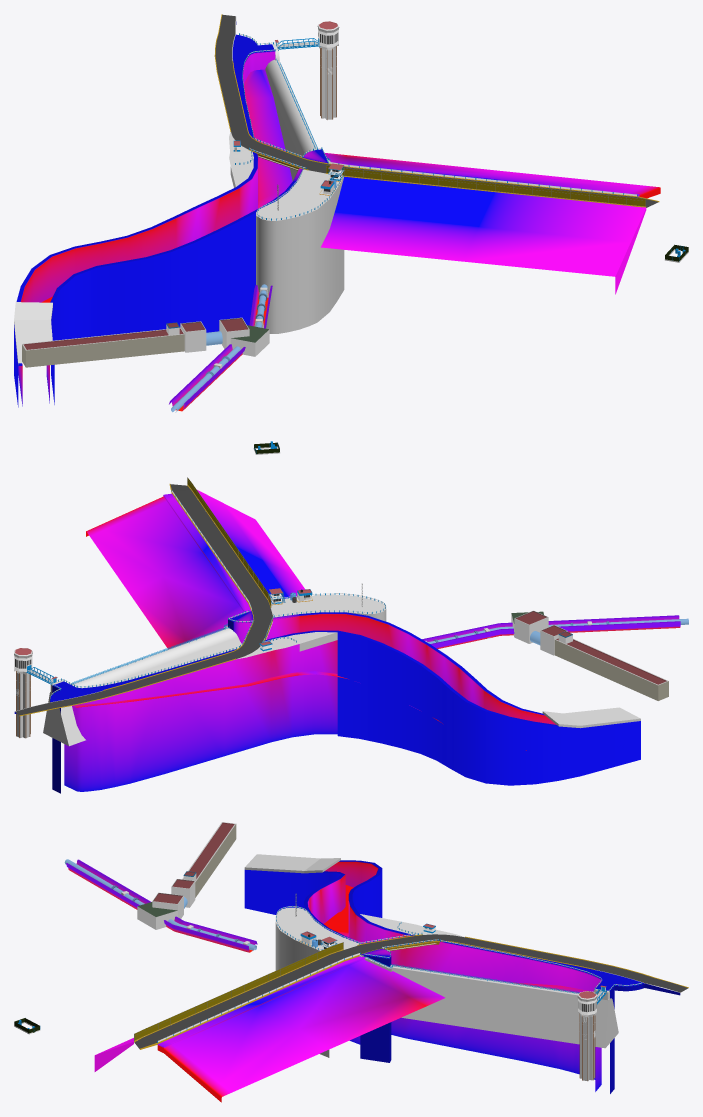
File: Mah_Sitio_04.glb
3 renders of one model, top to bottom at view 1: azimuth 30°, elevation 25°; view 2: azimuth 150°, elevation 25°; view 3: azimuth 270°, elevation 25°, orthographic. The views are drawn at different scales.
Parts seen in each view (by area): view 1: Msh_Sitio_04; view 2: Msh_Sitio_04; view 3: Msh_Sitio_04.
Boxes of the visible parts, bbox=[...] form: Msh_Sitio_04: bbox=[14, 14, 688, 412]; Msh_Sitio_04: bbox=[14, 441, 688, 793]; Msh_Sitio_04: bbox=[14, 822, 688, 1102].
Bounding box in the file's own units: 329 × 68.73 × 331.
